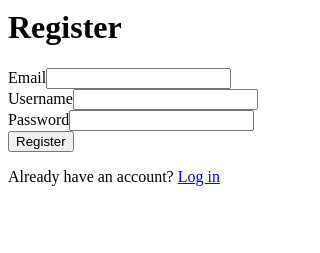
Test: RegisterPage › shows the error under the email field for a taken email
Type "richard@example.com" into the field labelled "Email".
click(139, 78); type("richard@example.com")  # box top-left (46, 68), bottom-right (231, 89)
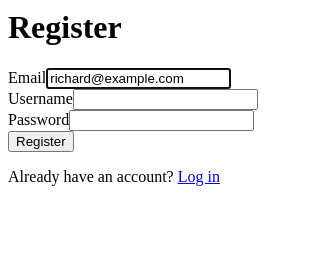
Type "richard" into the field labelled "Username".
click(165, 99); type("richard")  # box top-left (73, 89), bottom-right (258, 110)
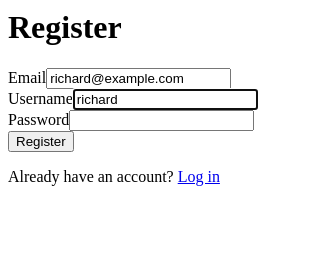
Type "the art of war is strong" into the password field labelled "Password".
click(162, 120); type("the art of war is strong")  # box top-left (69, 110), bottom-right (254, 131)
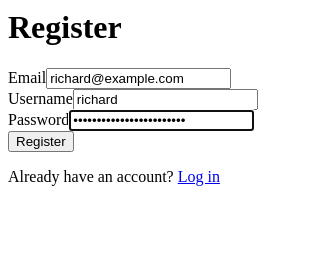
Click the button "Register".
click(41, 141)  # box top-left (8, 131), bottom-right (74, 152)
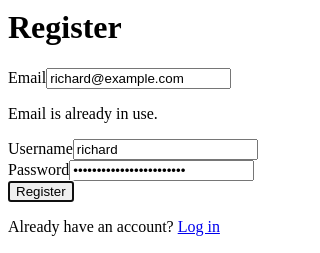
Expected: the text "Email is already in use." is shown, top-left (8, 105), bottom-right (158, 122)
